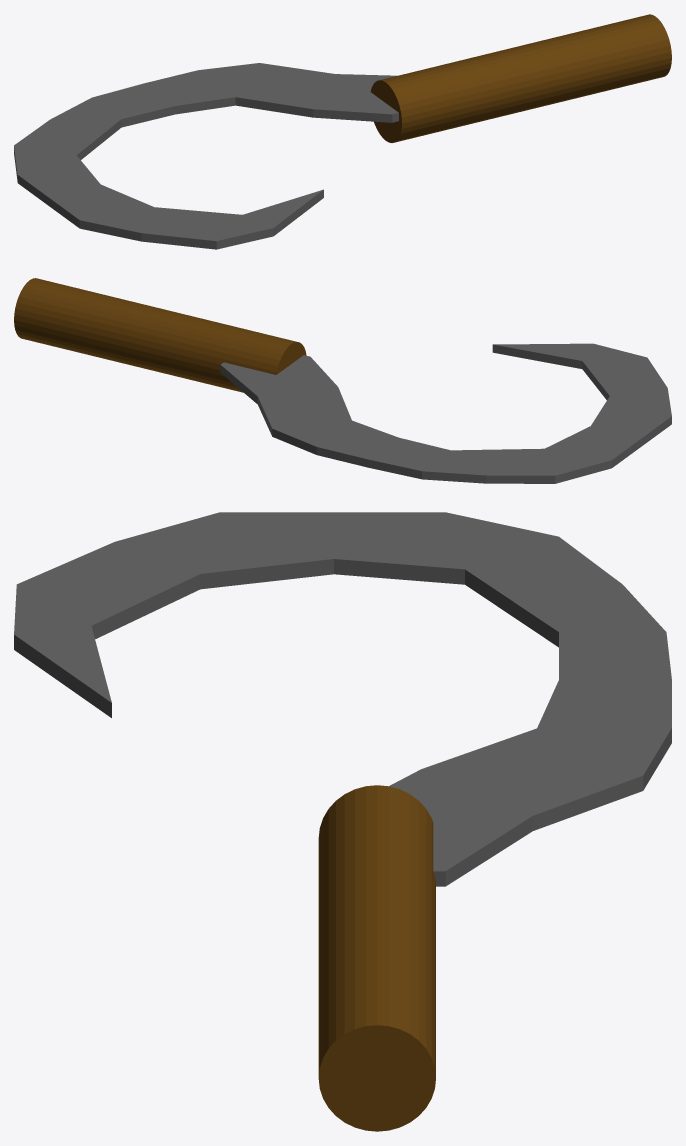
Rendered from Sickle.fbx.
The picture shows the model from 3 angles, top to bottom: view 1: azimuth 30°, elevation 25°; view 2: azimuth 150°, elevation 25°; view 3: azimuth 270°, elevation 25°; orthographic projection. The views are drawn at different scales.
Parts seen in each view (by area): view 1: Plane, Cylinder; view 2: Plane, Cylinder; view 3: Plane, Cylinder.
Boxes of the visible parts, box(x1,y1,x2,y2) form: Plane: box(14, 63, 398, 249); Cylinder: box(370, 14, 671, 142); Plane: box(220, 343, 671, 483); Cylinder: box(14, 278, 306, 392); Plane: box(14, 512, 671, 886); Cylinder: box(318, 785, 435, 1131).
Bounding box in the file's own units: 1536 × 139 × 776.
